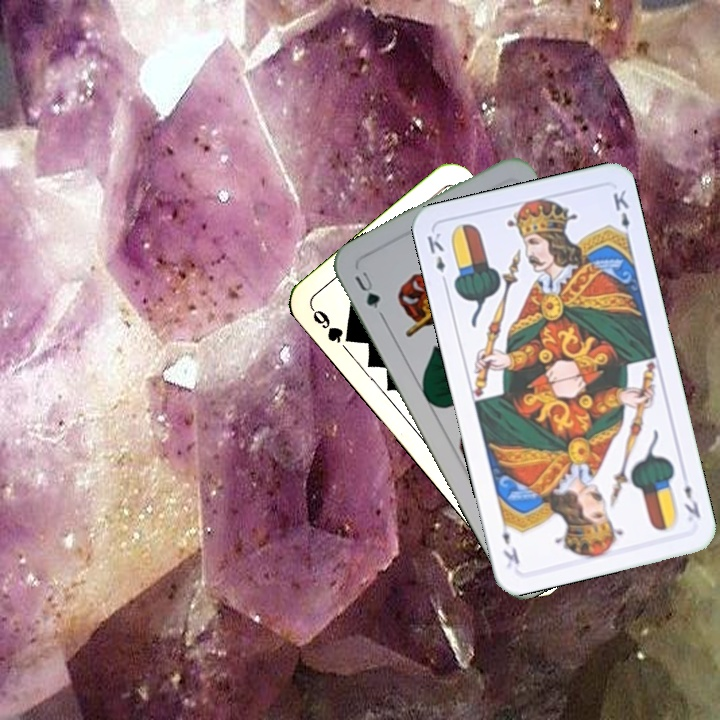EK: (423, 228, 450, 288), (680, 481, 703, 521)
G9: (307, 304, 358, 346)
GU: (350, 267, 383, 312)
